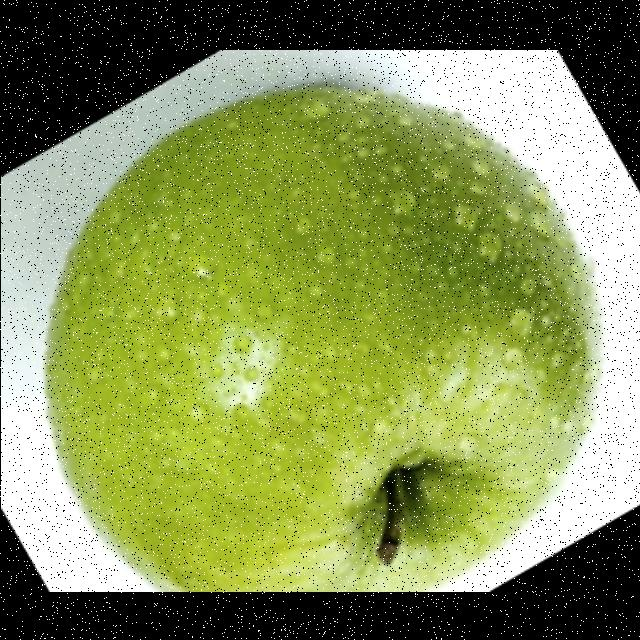Apel Segar: (36, 70, 612, 590)
